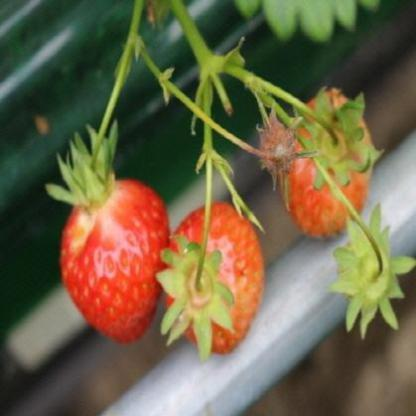Strawberry_Gray_Mold: (250, 104, 316, 199)
